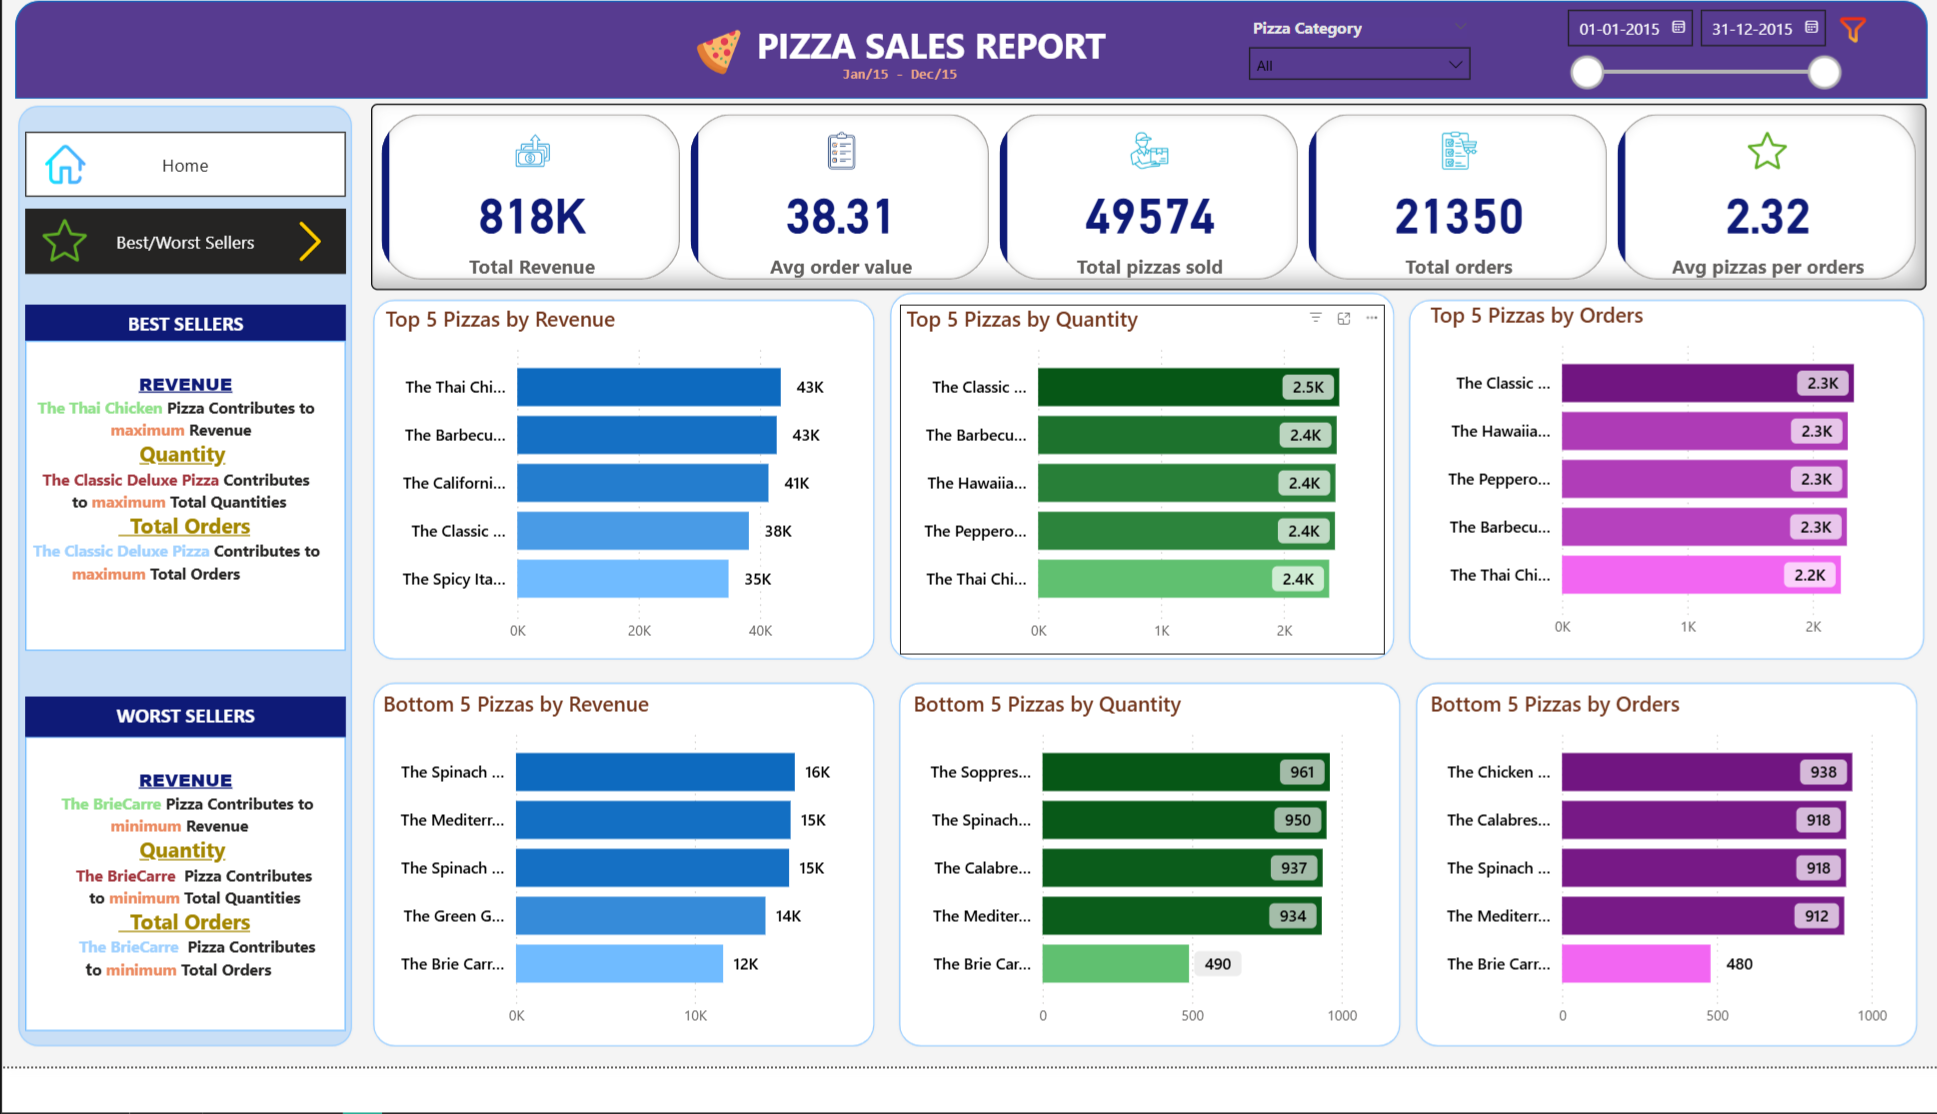

What the dashboard file says about the page in this screenshot:
{"tool":"powerbi","page":{"name":"Best/Worst Sellers","canvas":[1500,820],"ordinal":1},"visuals":[{"type":"shape","box":[10.8,82.3,259.2,724.6],"z":0},{"type":"cardVisual","fields":{"Data":["_Measures.Total Revenue","_Measures.Avg order value","_Measures.Total pizzas sold","_Measures.Total orders","_Measures.Avg pizzas per orders"]},"box":[283.1,82.3,1193.1,143.1],"z":1000},{"type":"shape","box":[10,3.1,1466.9,75.4],"z":2000},{"type":"textbox","box":[553.1,13.8,326.9,53.8],"z":3000},{"type":"textbox","box":[639.2,43.8,110.8,29.2],"z":4000},{"type":"image","box":[519.2,20,60,44.6],"z":5000},{"type":"shape","box":[283.1,230.8,387.7,279.2],"z":6000},{"type":"slicer","fields":{"Values":["pizza_sales.pizza_category"]},"box":[946.2,10.8,190,60],"z":7000},{"type":"slicer","fields":{"Values":["pizza_sales.order_date"]},"box":[1187.7,0,231.5,78.5],"z":8000},{"type":"shape","box":[1077.7,230.8,398.5,279.2],"z":9000},{"type":"shape","box":[679.2,225.4,390,284.6],"z":10000},{"type":"shape","box":[283.1,524.6,387.7,282.3],"z":11000},{"type":"shape","box":[686.2,524.6,387.7,282.3],"z":12000},{"type":"shape","box":[1083.1,524.6,387.7,282.3],"z":13000},{"type":"barChart","title":"Top 5 Pizzas by Revenue","fields":{"Category":["pizza_sales.pizza_name"],"Y":["_Measures.Total Revenue"]},"box":[289.2,236.2,372.3,268.5],"z":14000},{"type":"barChart","title":"Bottom 5 Pizzas by Revenue","fields":{"Category":["pizza_sales.pizza_name"],"Y":["_Measures.Total Revenue"]},"box":[289.2,531.5,372.3,268.5],"z":15000},{"type":"barChart","title":"Top 5 Pizzas by Quantity","fields":{"Category":["pizza_sales.pizza_name"],"Y":["_Measures.Total pizzas sold"]},"box":[688.5,236.2,372.3,268.5],"z":16000},{"type":"barChart","title":"Bottom 5 Pizzas by Quantity","fields":{"Category":["pizza_sales.pizza_name"],"Y":["_Measures.Total pizzas sold"]},"box":[693.8,531.5,366.9,268.5],"z":17000},{"type":"barChart","title":"Top 5 Pizzas by Orders","fields":{"Category":["pizza_sales.pizza_name"],"Y":["_Measures.Total orders"]},"box":[1090.8,233.1,372.3,268.5],"z":18000},{"type":"barChart","title":"Bottom 5 Pizzas by Orders","fields":{"Category":["pizza_sales.pizza_name"],"Y":["_Measures.Total orders"]},"box":[1090.8,531.5,372.3,268.5],"z":19000},{"type":"textbox","box":[17.7,236.2,246.2,30.8],"z":20000},{"type":"textbox","box":[17.7,263.8,246.2,237.7],"z":21000},{"type":"textbox","box":[17.7,567.7,246.2,226.2],"z":22000},{"type":"textbox","box":[17.7,536.9,246.2,30.8],"z":23000},{"type":"pageNavigator","box":[17.7,162.3,246.2,50],"z":24000},{"type":"pageNavigator","box":[17.7,103.8,246.2,50],"z":25000},{"type":"image","box":[207.7,166.9,56.2,40.8],"z":26000},{"type":"image","box":[23.1,108.5,50,40.8],"z":27000},{"type":"image","box":[1395.4,6.2,47.7,37.7],"z":28000},{"type":"image","box":[23.1,164.6,50.8,43.8],"z":29000}]}

Visuals, with their boxes on the page's 1500x820 design canvas (x1, y1, x2, y2). These are canvas units, not pixel positions in the 1937x1114 screenshot, which may show the page scaled, cropped or inside an application window:
shape: BBox(11, 82, 270, 807)
cardVisual - _Measures.Total Revenue x _Measures.Avg order value: BBox(283, 82, 1476, 225)
shape: BBox(10, 3, 1477, 78)
textbox: BBox(553, 14, 880, 68)
textbox: BBox(639, 44, 750, 73)
image: BBox(519, 20, 579, 65)
shape: BBox(283, 231, 671, 510)
slicer - pizza_sales.pizza_category: BBox(946, 11, 1136, 71)
slicer - pizza_sales.order_date: BBox(1188, 0, 1419, 78)
shape: BBox(1078, 231, 1476, 510)
shape: BBox(679, 225, 1069, 510)
shape: BBox(283, 525, 671, 807)
shape: BBox(686, 525, 1074, 807)
shape: BBox(1083, 525, 1471, 807)
"Top 5 Pizzas by Revenue" barChart: BBox(289, 236, 662, 505)
"Bottom 5 Pizzas by Revenue" barChart: BBox(289, 532, 662, 800)
"Top 5 Pizzas by Quantity" barChart: BBox(688, 236, 1061, 505)
"Bottom 5 Pizzas by Quantity" barChart: BBox(694, 532, 1061, 800)
"Top 5 Pizzas by Orders" barChart: BBox(1091, 233, 1463, 502)
"Bottom 5 Pizzas by Orders" barChart: BBox(1091, 532, 1463, 800)
textbox: BBox(18, 236, 264, 267)
textbox: BBox(18, 264, 264, 502)
textbox: BBox(18, 568, 264, 794)
textbox: BBox(18, 537, 264, 568)
pageNavigator: BBox(18, 162, 264, 212)
pageNavigator: BBox(18, 104, 264, 154)
image: BBox(208, 167, 264, 208)
image: BBox(23, 108, 73, 149)
image: BBox(1395, 6, 1443, 44)
image: BBox(23, 165, 74, 208)
